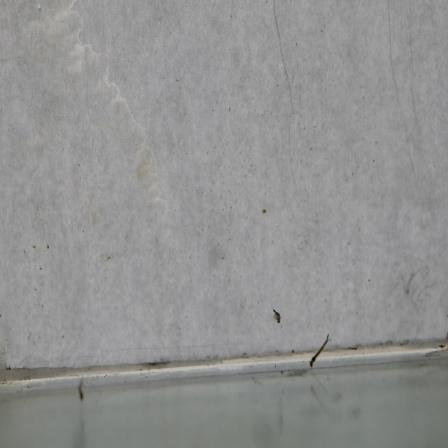Jentik-Nyamuk: (306, 331, 332, 370)
